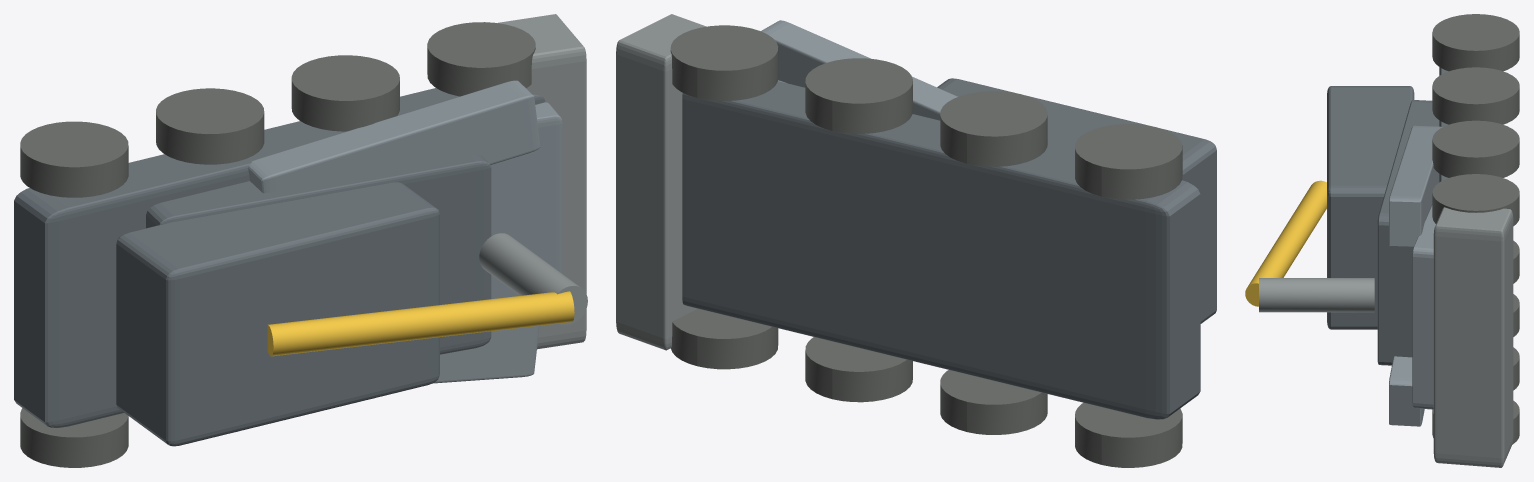
File: s-u18-specter-recovery-vehicle-lod1.glb
3 renders of one model, left to right at view 1: azimuth 30°, elevation 25°; view 2: azimuth 150°, elevation 25°; view 3: azimuth 270°, elevation 25°, orthographic. The views are drawn at different scales.
Visible parts, largest first — view 1: recovery_superstructure, chassis_lower, stealth_cheek_1, stealth_upper_hull, dozer_blade, service_boom, chassis_nose, chassis_wheel_1_0, chassis_wheel_1_1, chassis_wheel_1_2, chassis_wheel_1_3, chassis_wheel_-1_0 (+2 smaller); view 2: chassis_lower, dozer_blade, chassis_wheel_1_0, chassis_wheel_1_2, chassis_wheel_1_1, chassis_wheel_1_3, recovery_superstructure, chassis_wheel_-1_0, chassis_wheel_-1_2, chassis_wheel_-1_1, chassis_wheel_-1_3, stealth_cheek_1; view 3: dozer_blade, recovery_superstructure, stealth_upper_hull, chassis_wheel_1_0, chassis_wheel_1_1, chassis_wheel_1_2, stealth_cheek_1, winch, chassis_nose, chassis_wheel_1_3, service_boom, stealth_cheek_-1 (+1 smaller).
Boxes of the visible parts, box(x1,y1,x2,y2) form: recovery_superstructure: box(116, 182, 439, 446); chassis_lower: box(14, 88, 545, 427); stealth_cheek_1: box(248, 80, 540, 193); stealth_upper_hull: box(146, 154, 491, 354); dozer_blade: box(498, 14, 586, 349); service_boom: box(267, 291, 574, 356); chassis_nose: box(490, 102, 562, 298); chassis_wheel_1_0: box(20, 121, 128, 197); chassis_wheel_1_1: box(156, 88, 264, 164); chassis_wheel_1_2: box(291, 55, 399, 131); chassis_wheel_1_3: box(427, 22, 535, 96); chassis_wheel_-1_0: box(20, 408, 128, 467); chassis_lower: box(682, 81, 1200, 419); dozer_blade: box(616, 14, 706, 350); chassis_wheel_1_0: box(1075, 124, 1182, 199); chassis_wheel_1_2: box(805, 58, 912, 133); chassis_wheel_1_1: box(940, 91, 1047, 166); chassis_wheel_1_3: box(670, 25, 778, 100); recovery_superstructure: box(937, 78, 1216, 323); chassis_wheel_-1_0: box(1075, 402, 1182, 467); chassis_wheel_-1_2: box(805, 337, 912, 402); chassis_wheel_-1_1: box(940, 370, 1047, 434); chassis_wheel_-1_3: box(671, 308, 778, 369); stealth_cheek_1: box(761, 20, 957, 120); dozer_blade: box(1433, 207, 1513, 467); recovery_superstructure: box(1327, 86, 1414, 329); stealth_upper_hull: box(1377, 100, 1439, 365); chassis_wheel_1_0: box(1432, 14, 1519, 71); chassis_wheel_1_1: box(1432, 67, 1519, 124); chassis_wheel_1_2: box(1432, 120, 1519, 177); stealth_cheek_1: box(1389, 125, 1442, 247); winch: box(1259, 278, 1374, 312); chassis_nose: box(1412, 205, 1435, 409); chassis_wheel_1_3: box(1432, 174, 1519, 226); service_boom: box(1245, 180, 1326, 306); stealth_cheek_-1: box(1389, 356, 1424, 426).
Size of what is drawn, in the model's own units: 7.36 by 3.84 by 3.95.
